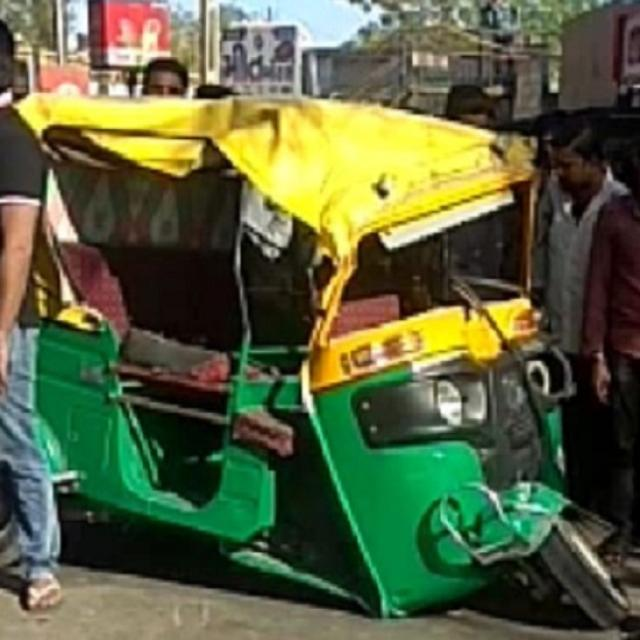accident: (17, 95, 625, 626)
